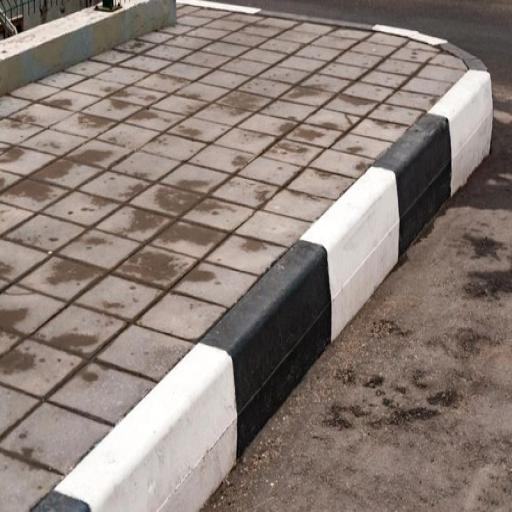glass_wall: (0, 5, 495, 512)
